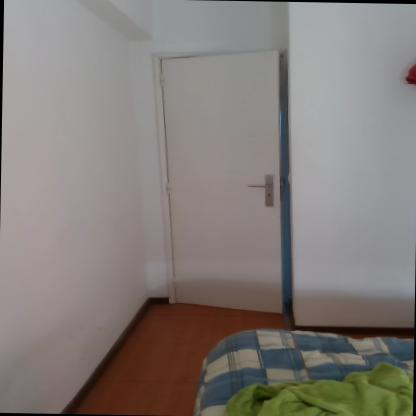closed: (146, 45, 300, 316)
